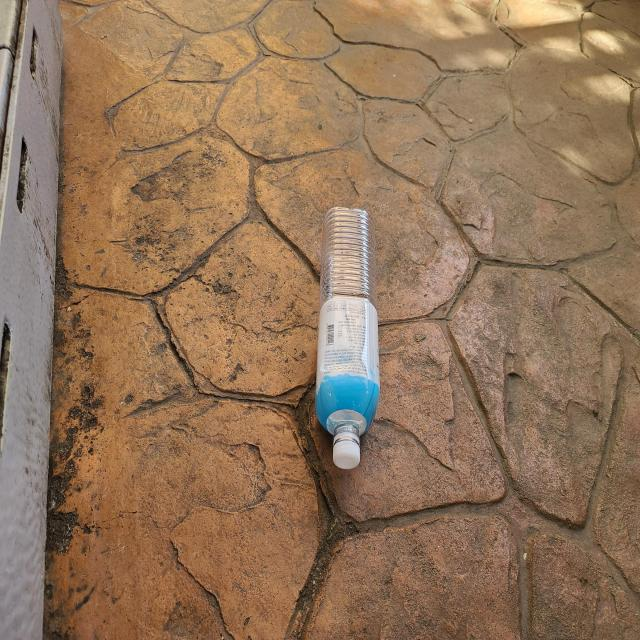plastic: (315, 206, 380, 470)
